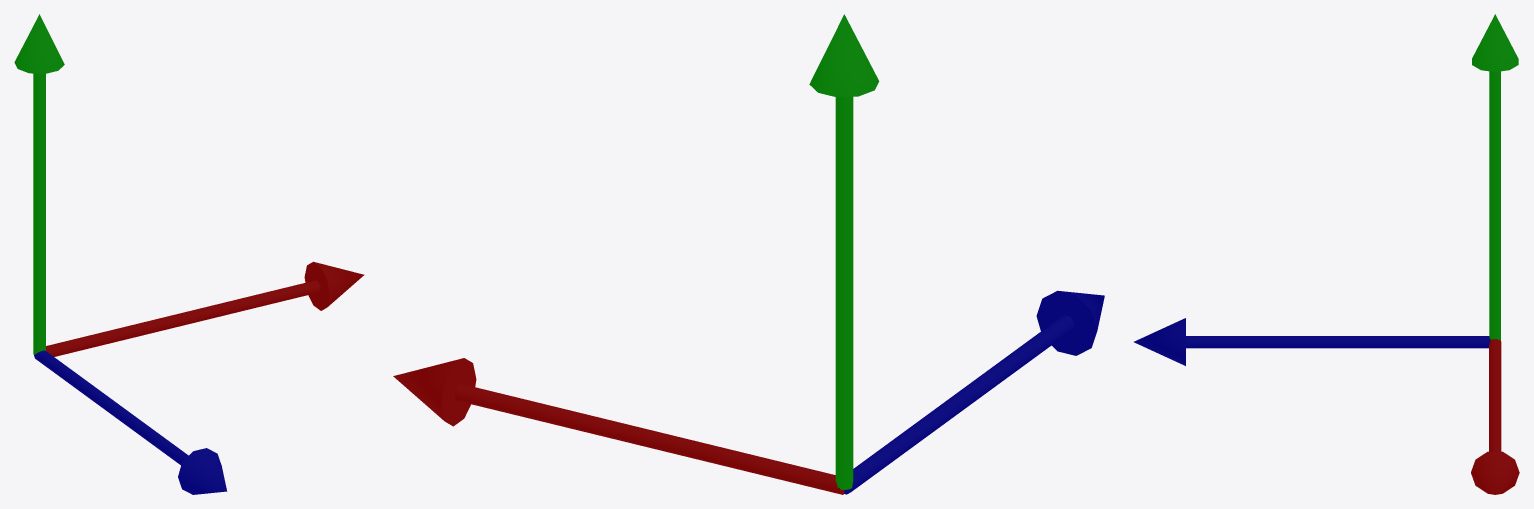
File: Arrows.dae
3 renders of one model, left to right at view 1: azimuth 30°, elevation 25°; view 2: azimuth 150°, elevation 25°; view 3: azimuth 270°, elevation 25°, orthographic. The views are drawn at different scales.
Visible parts, largest first — view 1: YAXIS, XAXIS, ZAXIS; view 2: YAXIS, XAXIS, ZAXIS; view 3: ZAXIS, YAXIS, XAXIS.
Part boxes in pixels (x1,y1,x2,y2): YAXIS: [14, 14, 64, 354]; XAXIS: [45, 261, 364, 356]; ZAXIS: [34, 350, 227, 494]; YAXIS: [809, 14, 879, 489]; XAXIS: [393, 358, 844, 494]; ZAXIS: [844, 290, 1104, 494]; ZAXIS: [1134, 318, 1490, 365]; YAXIS: [1472, 14, 1518, 340]; XAXIS: [1471, 339, 1519, 494].
Size of the model in its own units: 1.07 by 1.06 by 1.07.
